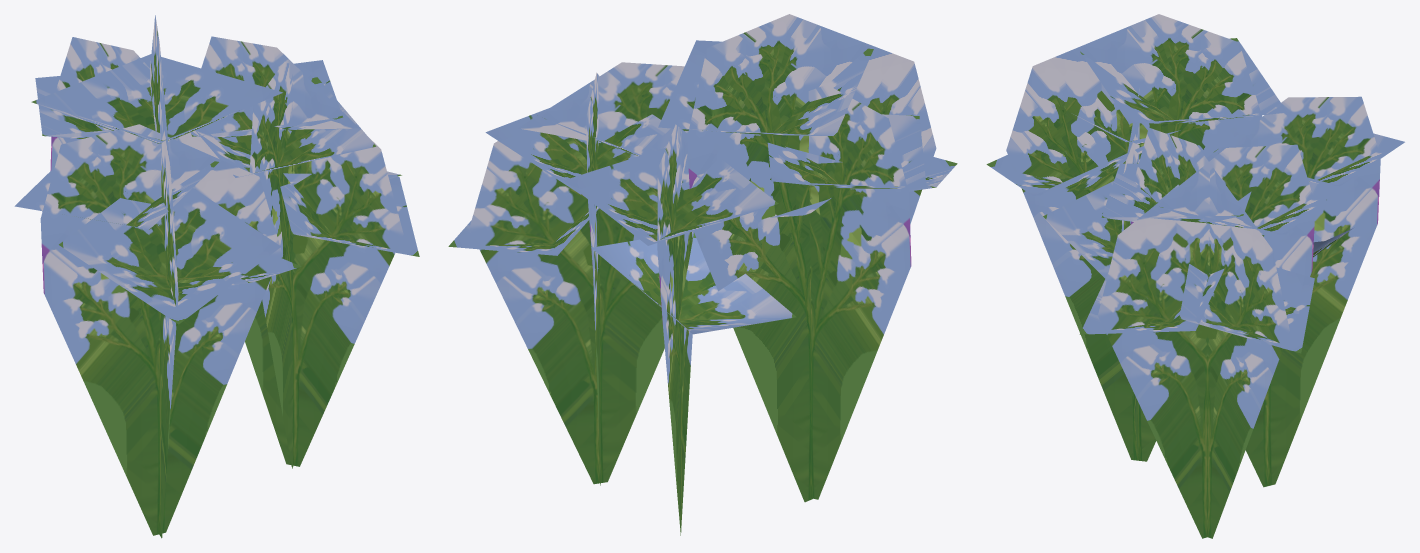
File: SM_Flower_09_03.fbx
3 renders of one model, left to right at view 1: azimuth 30°, elevation 25°; view 2: azimuth 150°, elevation 25°; view 3: azimuth 270°, elevation 25°, orthographic. The views are drawn at different scales.
Parts seen in each view (by area): view 1: SM_Flower_09_03_LOD0; view 2: SM_Flower_09_03_LOD0; view 3: SM_Flower_09_03_LOD0.
Boxes of the visible parts, x1=… form: SM_Flower_09_03_LOD0: x1=14, y1=15, x2=419, y2=538; SM_Flower_09_03_LOD0: x1=448, y1=14, x2=957, y2=535; SM_Flower_09_03_LOD0: x1=986, y1=14, x2=1404, y2=538.
Size of what is drawn, in the model's own units: 75.47 by 86.99 by 73.18.
